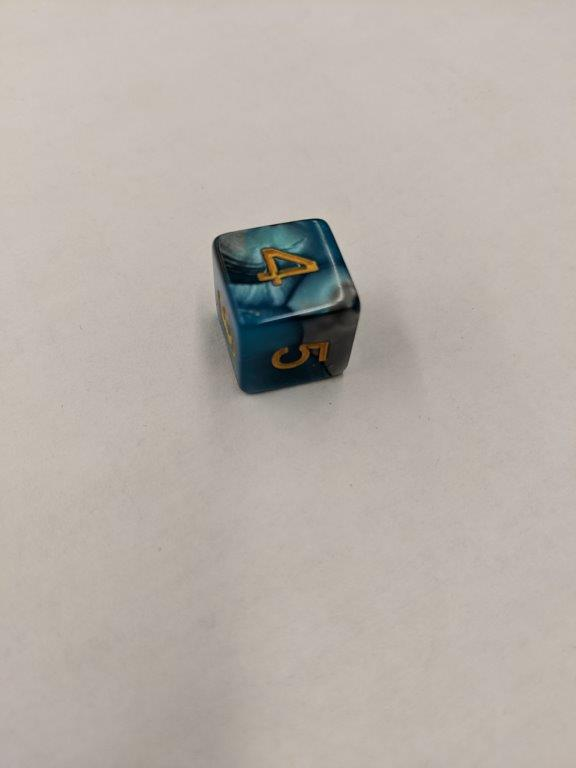d6-4: (213, 216, 361, 398)
